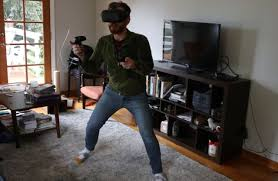oculus: (100, 9, 129, 24)
